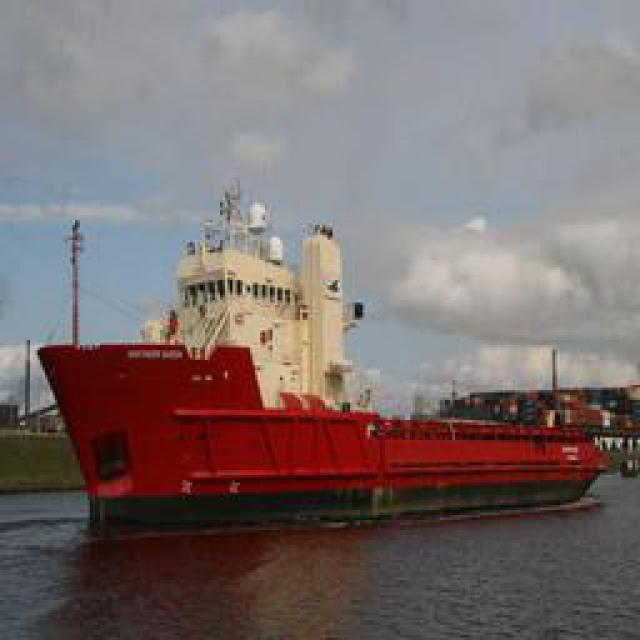Ship: (26, 343, 621, 531)
